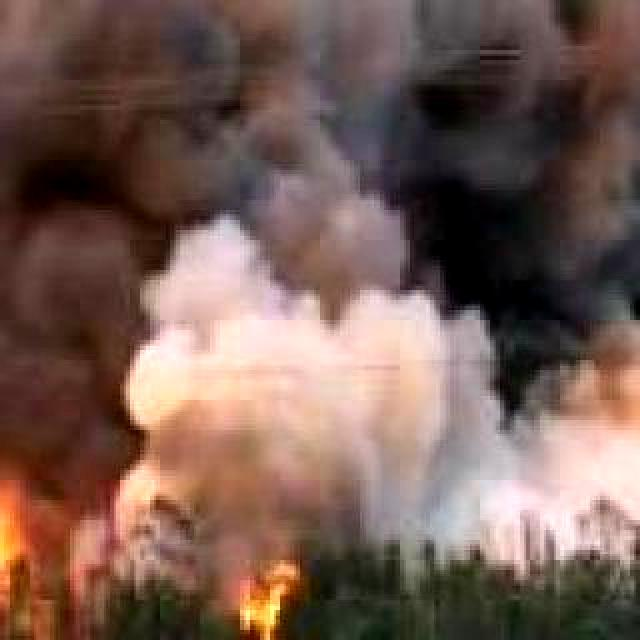fire: (82, 596, 302, 640), (0, 486, 30, 584)
